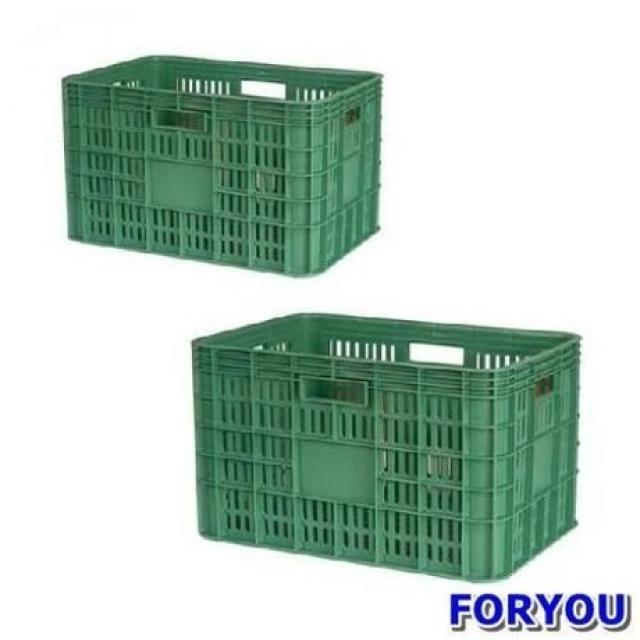basket: (178, 307, 591, 589), (49, 49, 391, 281)
